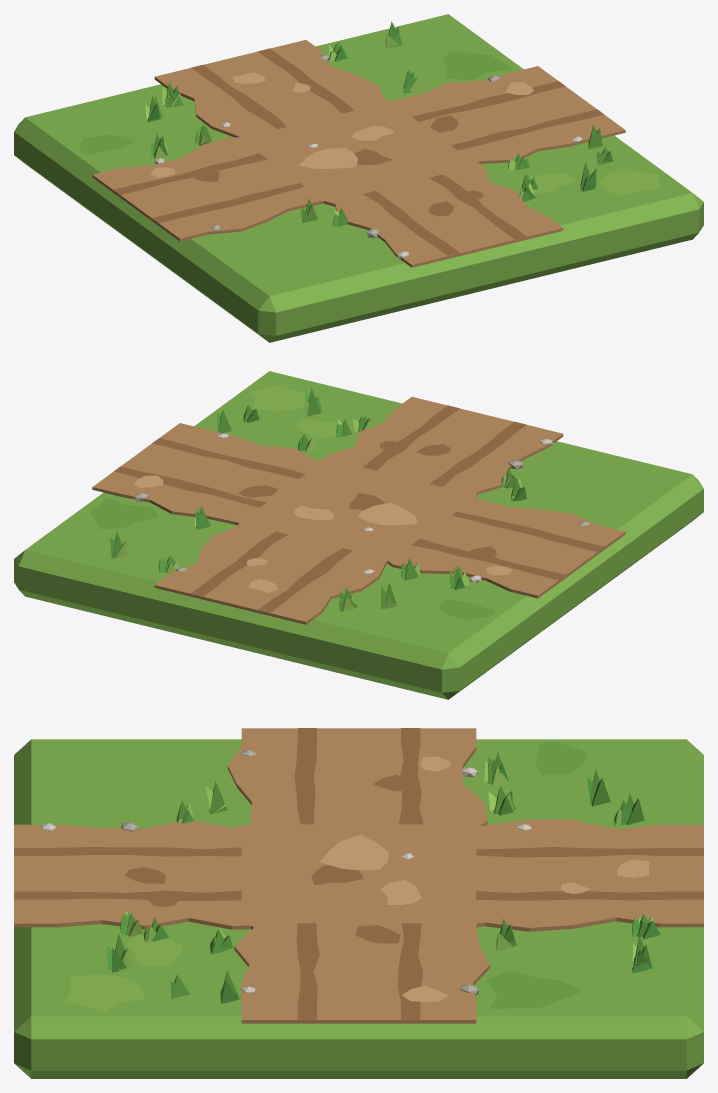
File: road_l1.fbx
3 views of the same model, one above another, from view 1: azimuth 30°, elevation 25°; view 2: azimuth 150°, elevation 25°; view 3: azimuth 270°, elevation 25° (orthographic). The views are drawn at different scales.
Parts seen in each view (by area): view 1: road_l1, Road_XPlus, Road_XMinus, Road_YMinus, Road_YPlus; view 2: road_l1, Road_XMinus, Road_XPlus, Road_YMinus, Road_YPlus; view 3: road_l1, Road_XMinus, Road_XPlus, Road_YMinus, Road_YPlus.
Boxes of the visible parts, <box> form: road_l1: <box>14,14,703,342</box>; Road_XPlus: <box>92,124,346,241</box>; Road_XMinus: <box>369,66,625,174</box>; Road_YMinus: <box>154,40,407,137</box>; Road_YPlus: <box>306,156,563,267</box>; road_l1: <box>14,371,703,699</box>; Road_XMinus: <box>92,409,353,529</box>; Road_XPlus: <box>375,477,625,598</box>; Road_YMinus: <box>154,515,391,624</box>; Road_YPlus: <box>321,397,563,507</box>; road_l1: <box>14,739,703,1078</box>; Road_XMinus: <box>210,909,516,1023</box>; Road_XPlus: <box>205,728,516,838</box>; Road_YMinus: <box>441,793,703,939</box>; Road_YPlus: <box>14,801,275,942</box>.
Bounding box in the file's own units: 1 × 0.1545 × 1.
